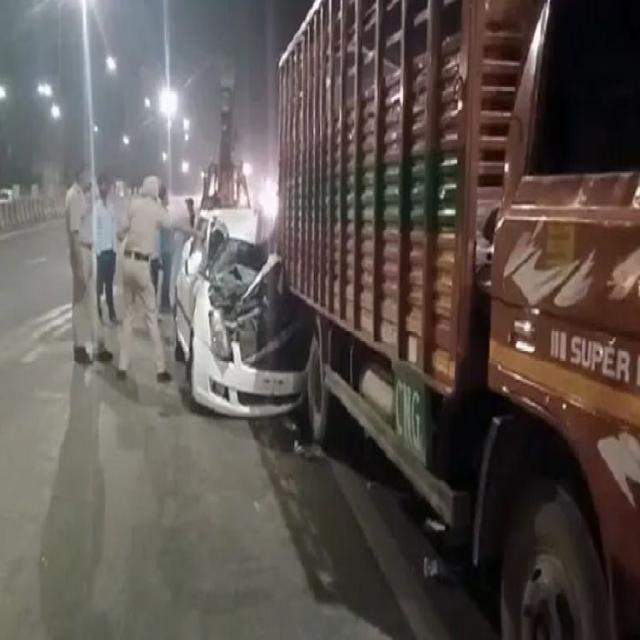accident: (175, 207, 309, 415)
truck: (276, 0, 640, 636)
